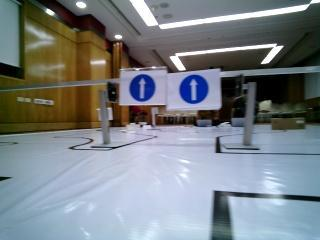straight: (170, 72, 220, 106), (120, 67, 166, 102)
